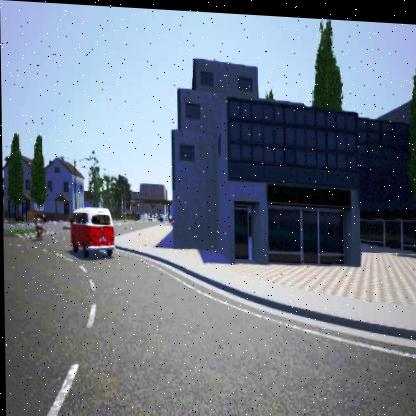bike: (33, 216, 43, 238)
vehicle: (68, 204, 113, 257)
